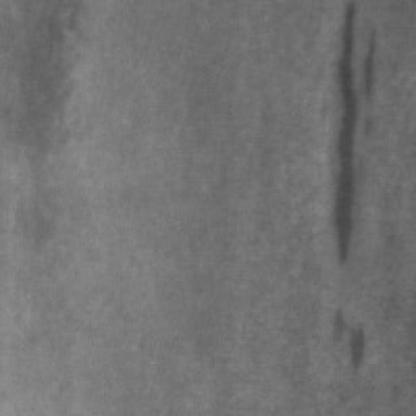inclusion: (320, 0, 380, 268), (320, 296, 366, 372)
